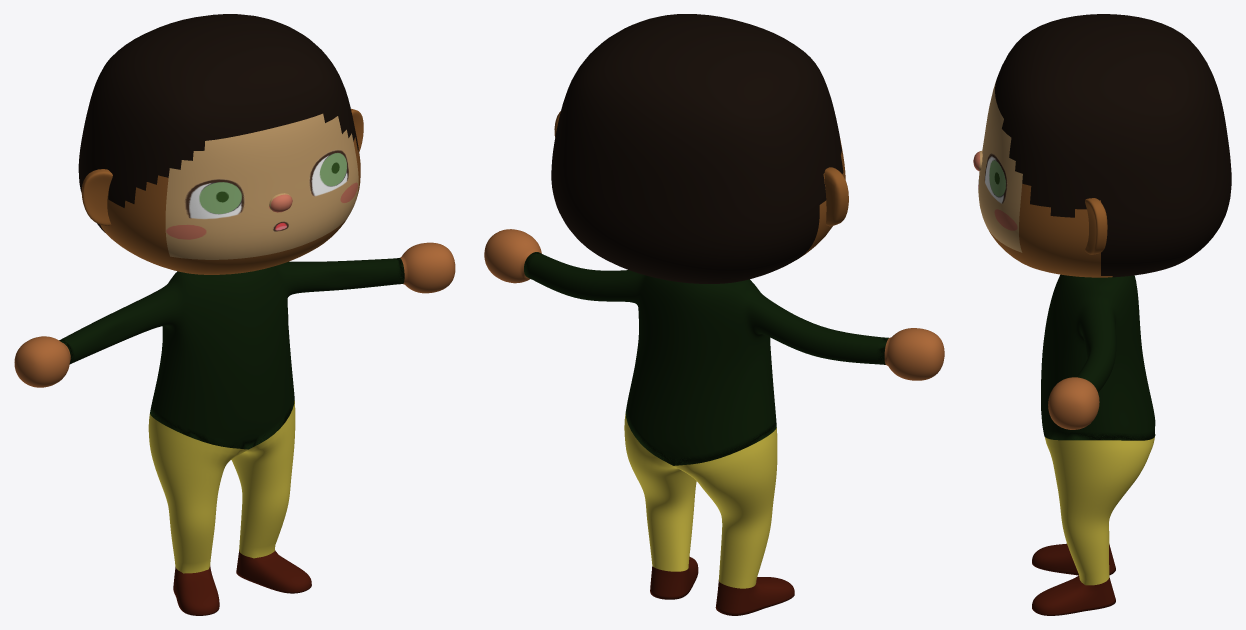
Rendered from Hans standing focused.obj.
3 renders of one model, left to right at view 1: azimuth 30°, elevation 25°; view 2: azimuth 150°, elevation 25°; view 3: azimuth 270°, elevation 25°, orthographic. The views are drawn at different scales.
Parts seen in each view (by area): view 1: Cube.001, Cube.002, Cube.003, Cube.008, Cube.005, Cube.004; view 2: Cube.001, Cube.002, Cube.003, Cube.008, Cube.005, Cube.004; view 3: Cube.001, Cube.002, Cube.003, Cube.008, Cube.004.
Part boxes in pixels (x1,y1,x2,y2): Cube.001: (78, 14, 363, 274); Cube.002: (59, 258, 404, 449); Cube.003: (148, 401, 295, 573); Cube.008: (173, 550, 311, 615); Cube.005: (14, 336, 70, 387); Cube.004: (400, 242, 455, 293); Cube.001: (551, 14, 848, 283); Cube.002: (524, 252, 888, 465); Cube.003: (624, 414, 777, 588); Cube.008: (650, 556, 794, 615); Cube.005: (884, 328, 944, 380); Cube.004: (484, 229, 541, 283); Cube.001: (973, 14, 1231, 277); Cube.002: (1041, 274, 1155, 440); Cube.003: (1045, 437, 1154, 585); Cube.008: (1032, 543, 1115, 615); Cube.004: (1048, 377, 1099, 429).
Bounding box in the file's own units: 2.58 × 3.1 × 1.32.
